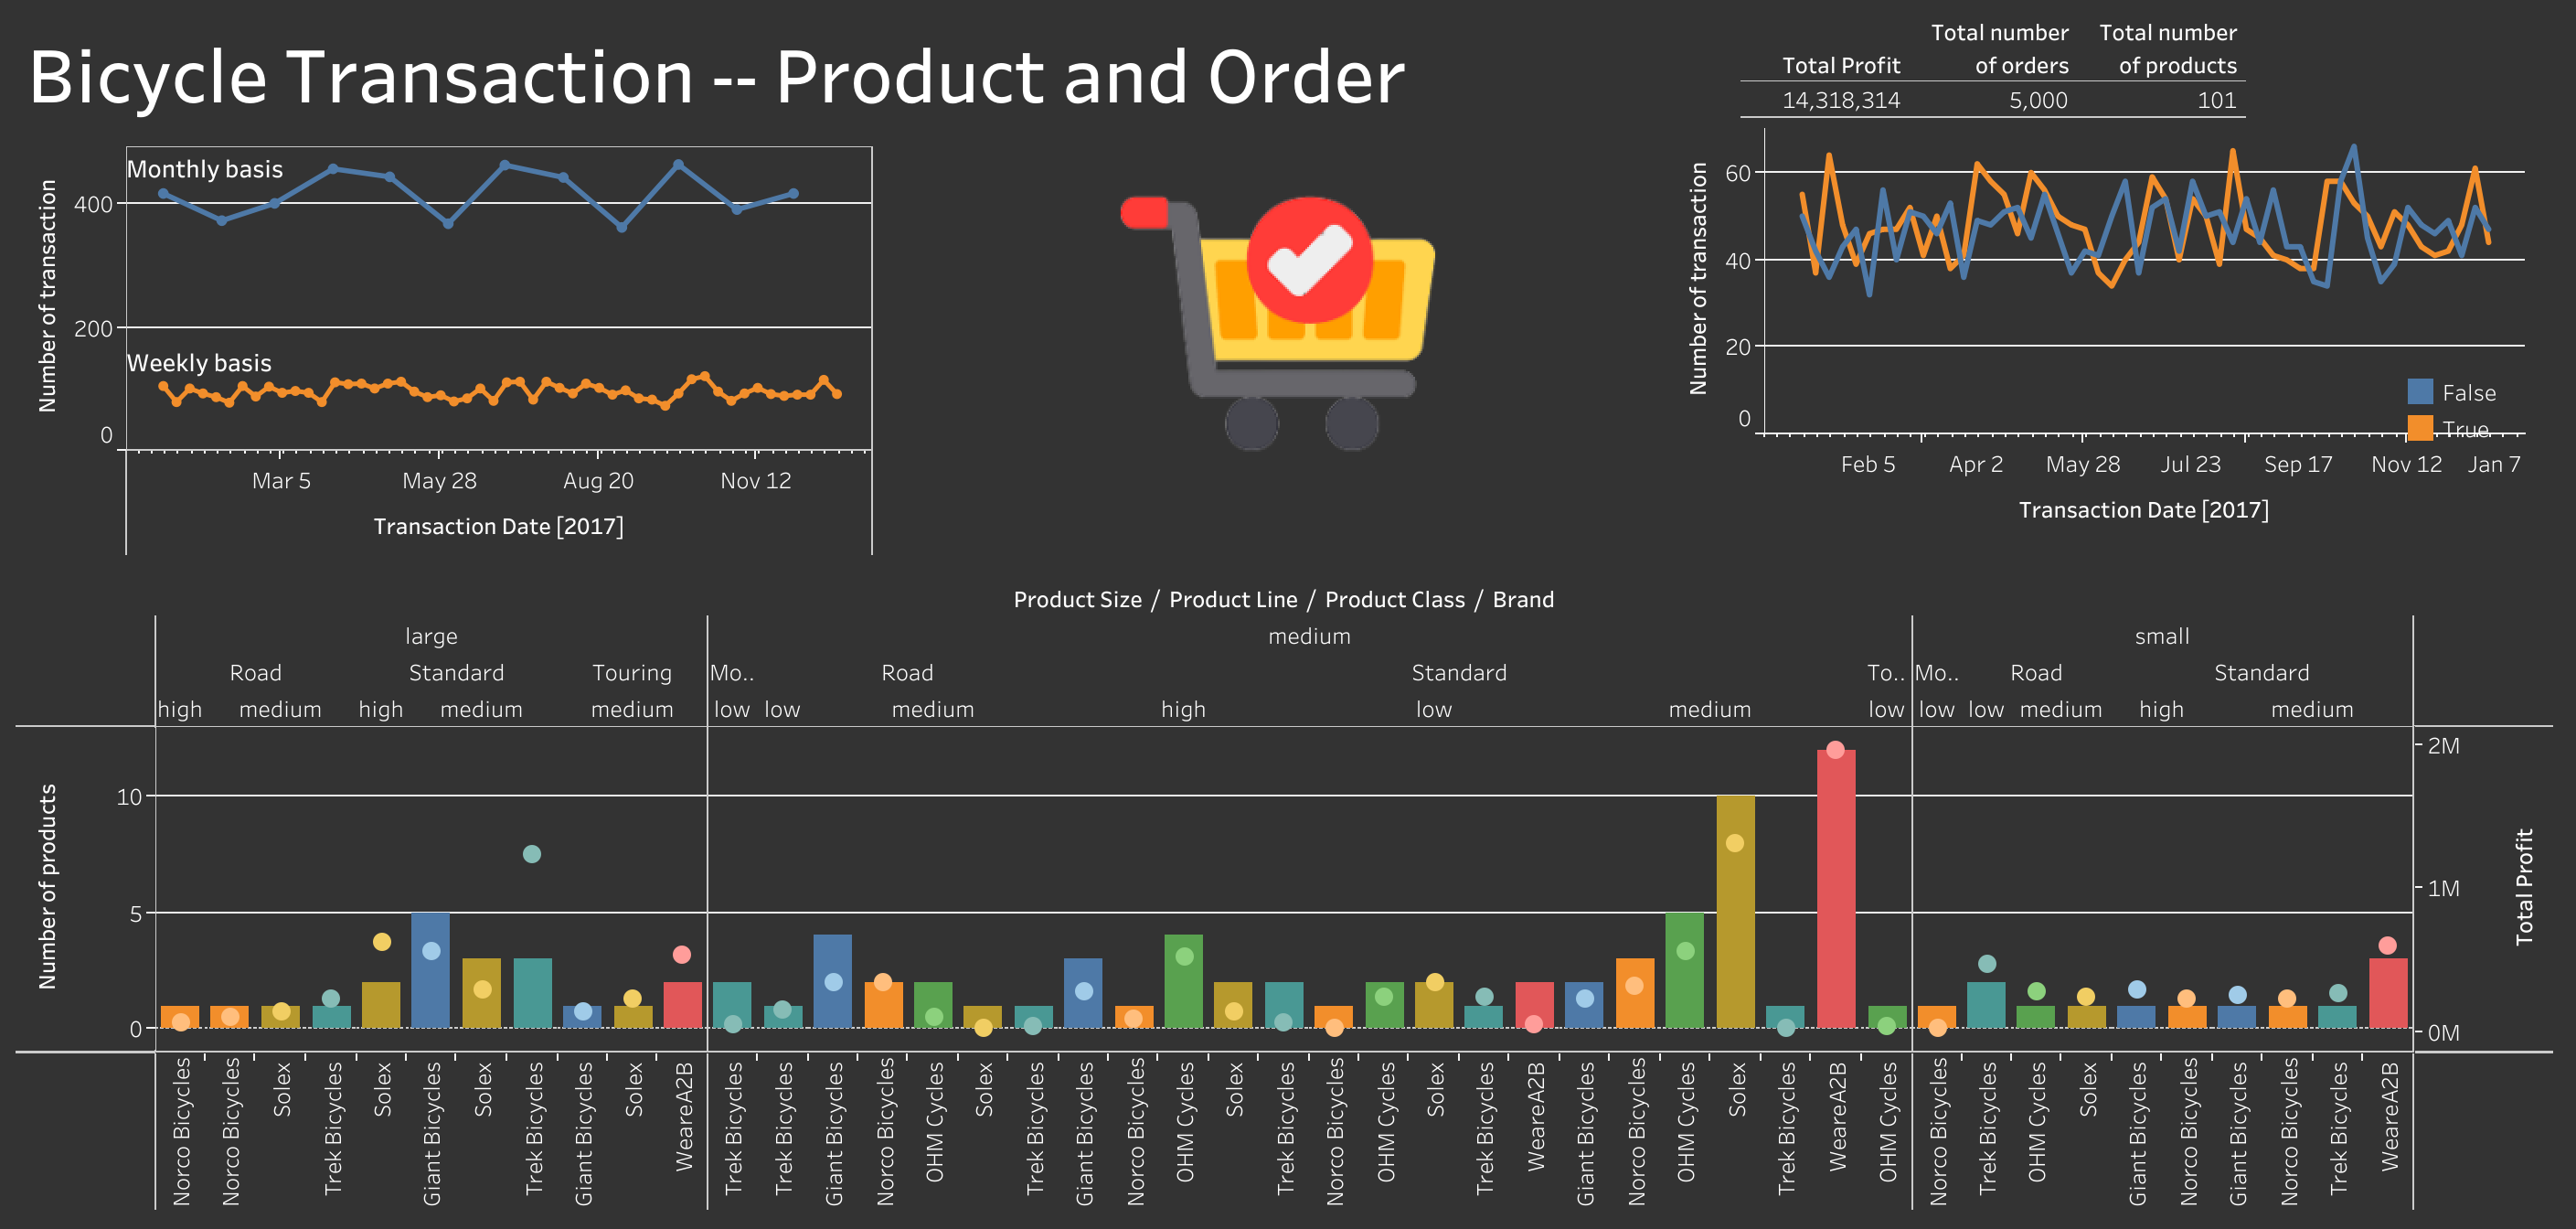

This screenshot's page, from the dashboard's own definition file:
{"tool":"tableau","page":{"name":"Product_Order_profile","canvas":[1000,1000],"units":"permille","ordinal":1},"visuals":[{"type":"title","box":[6.5,9.9,987,78]},{"type":"worksheet","title":"online_order","mark":"Automatic","rows":["transaction_id"],"cols":["transaction_date"],"box":[647,104,332.8,332.9]},{"type":"image","param":"Image/order.png","box":[380.6,112.6,230,324.3]},{"type":"worksheet","title":"order_time","mark":"Line","rows":["transaction_id"],"cols":["transaction_date","transaction_date"],"box":[6.5,118.8,332.8,332.9]},{"type":"legend","title":"online_order","param":"[federated.00wbm010f53lby14yuq0z029taaw].[none:online_order:nk]","box":[932,303.2,59.1,58.2]},{"type":"worksheet","title":"product_profit","mark":"Automatic","rows":["product_id (product_profile.csv)","total_profit"],"cols":["product_size","product_line","product_class","brand"],"box":[6.5,471.5,984.6,513.6]}]}

Visuals, with their boxes on the dashboard's canvas, which has no fixed pixel size, in thousandths of its width and height (x1, y1, x2, y2). These are canvas units, not pixel positions in the 2576x1229 screenshot, which may show the page scaled, cropped or inside an application window:
title: {"left": 6, "top": 10, "right": 994, "bottom": 88}
"online_order" worksheet: {"left": 647, "top": 104, "right": 980, "bottom": 437}
image: {"left": 381, "top": 113, "right": 611, "bottom": 437}
"order_time" worksheet (Line marks): {"left": 6, "top": 119, "right": 339, "bottom": 452}
"online_order" legend: {"left": 932, "top": 303, "right": 991, "bottom": 361}
"product_profit" worksheet: {"left": 6, "top": 472, "right": 991, "bottom": 985}
